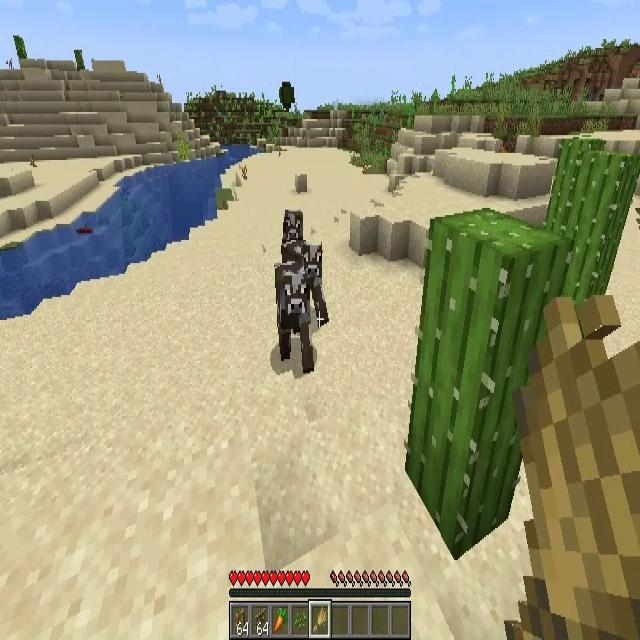cow: (276, 266, 312, 365), (286, 242, 328, 321), (282, 208, 303, 240)
